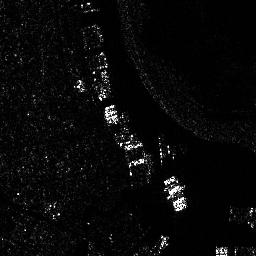ship: (164, 174, 190, 212)
